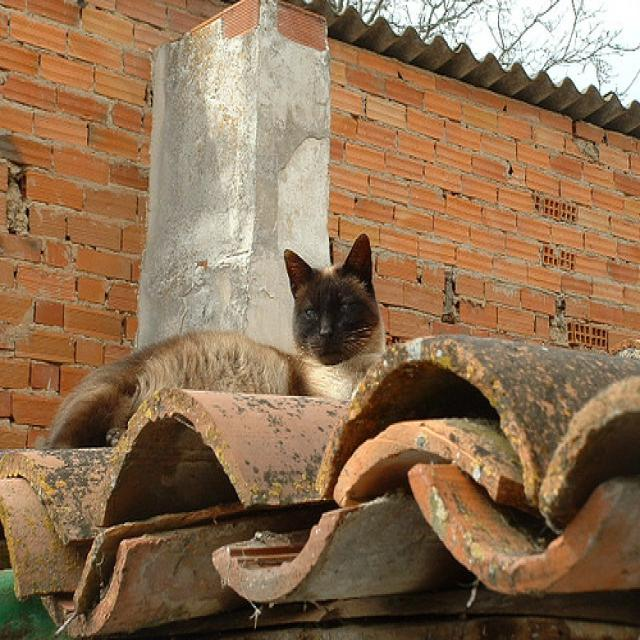left eye: (337, 295, 353, 314)
